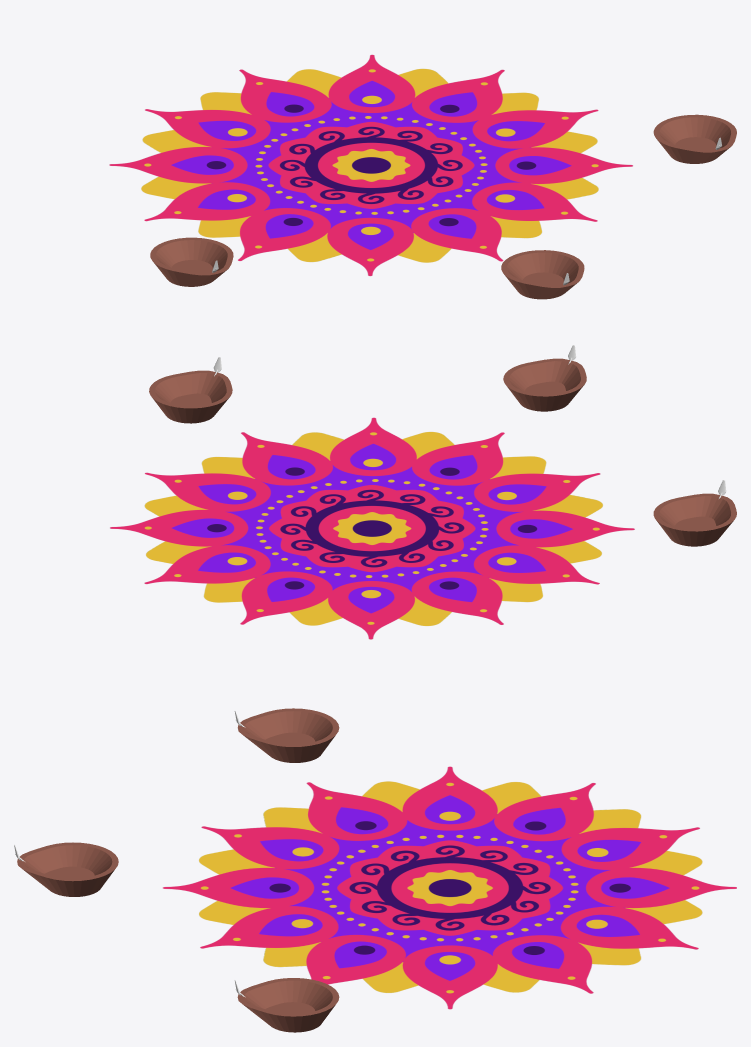
The picture shows the model from 3 angles, top to bottom: view 1: azimuth 30°, elevation 25°; view 2: azimuth 150°, elevation 25°; view 3: azimuth 270°, elevation 25°; orthographic projection. The views are drawn at different scales.
Visible parts, largest first — view 1: Rangoli_92, Cylinder.006_102, Cylinder.003_99, Cylinder_96; view 2: Rangoli_92, Cylinder.003_99, Cylinder_96, Cylinder.006_102; view 3: Rangoli_92, Cylinder.006_102, Cylinder.003_99, Cylinder_96.
Part boxes in pixels (bbox=[...]): Rangoli_92: bbox=[109, 54, 632, 275]; Cylinder.006_102: bbox=[501, 250, 584, 299]; Cylinder.003_99: bbox=[150, 237, 233, 286]; Cylinder_96: bbox=[653, 114, 736, 163]; Rangoli_92: bbox=[110, 417, 634, 639]; Cylinder.003_99: bbox=[653, 493, 736, 546]; Cylinder_96: bbox=[149, 370, 232, 423]; Cylinder.006_102: bbox=[503, 358, 586, 411]; Rangoli_92: bbox=[163, 766, 736, 1009]; Cylinder.006_102: bbox=[17, 842, 118, 896]; Cylinder.003_99: bbox=[237, 708, 339, 762]; Cylinder_96: bbox=[237, 978, 339, 1032].
Bounding box in the file's own units: 21.97 × 1.39 × 21.78.
Materials: 4 (1 with a texture image).
